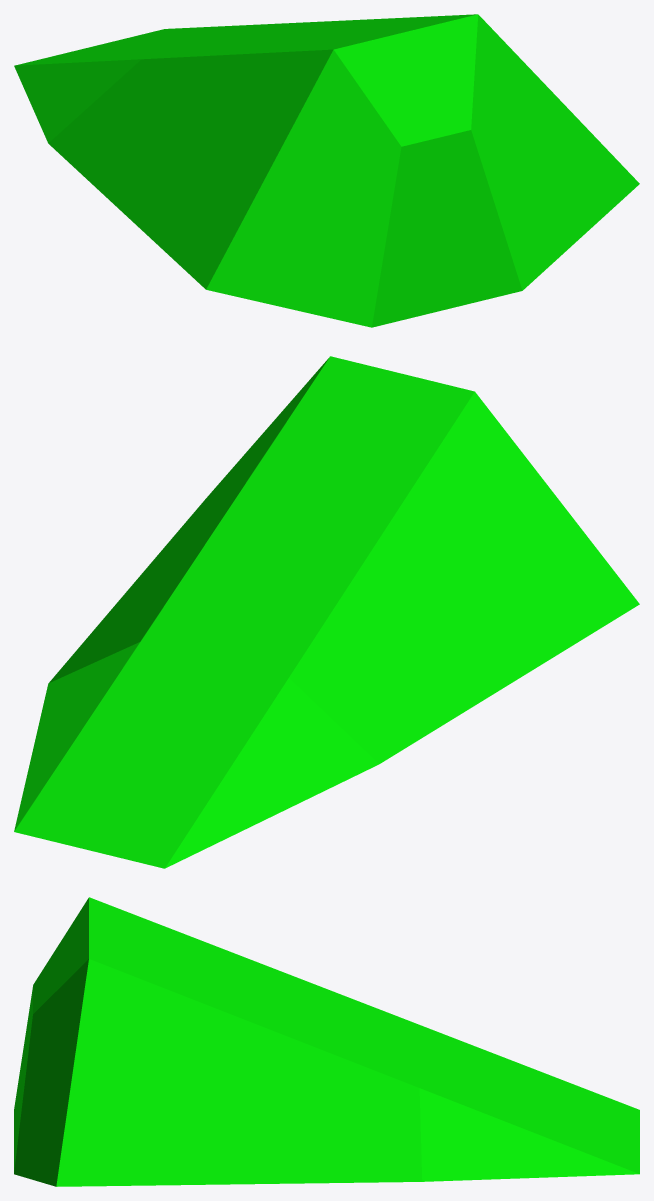
Rendered from Slope 2.fbx.
3 views of the same model, one above another, from view 1: azimuth 30°, elevation 25°; view 2: azimuth 150°, elevation 25°; view 3: azimuth 270°, elevation 25° (orthographic). The views are drawn at different scales.
Parts seen in each view (by area): view 1: Slope_2; view 2: Slope_2; view 3: Slope_2.
Part boxes in pixels (<box>): Slope_2: <box>14,14,639,327</box>; Slope_2: <box>14,356,639,868</box>; Slope_2: <box>14,897,639,1186</box>.
Bounding box in the file's own units: 3900 × 2109 × 5570.
